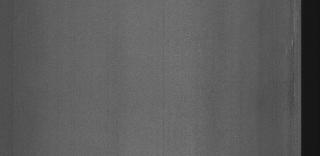silk spot: (281, 12, 299, 78)
